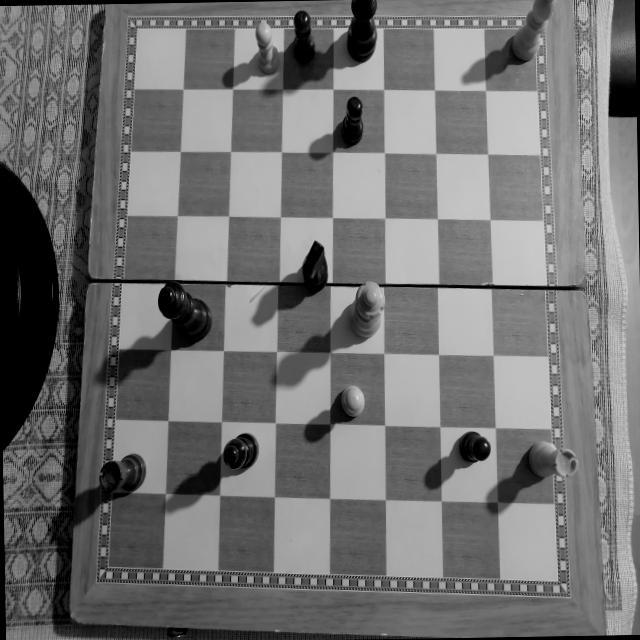corners: (68, 600, 88, 629), (590, 622, 612, 638)
